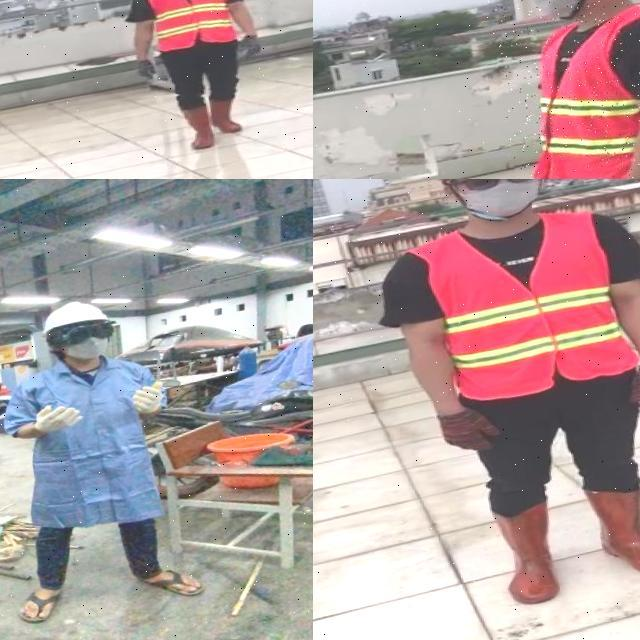boots: (490, 502, 564, 608), (589, 474, 640, 585), (180, 103, 217, 151), (205, 96, 242, 136)
helmet: (35, 292, 114, 336)
vest: (416, 204, 640, 406), (513, 0, 640, 179), (143, 0, 239, 54)
